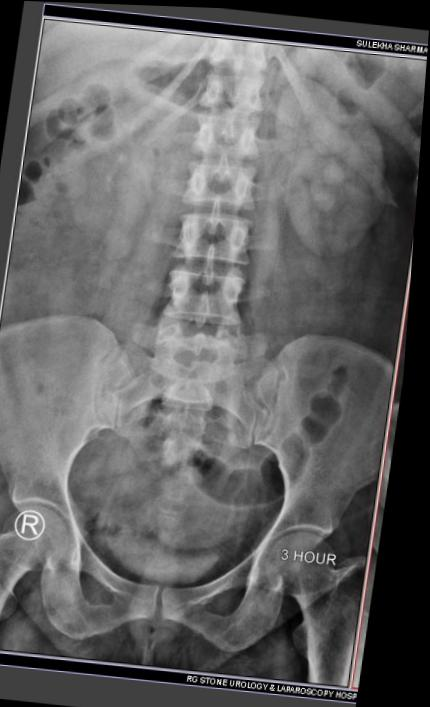left kidney: (246, 54, 408, 269)
vertebrae: (178, 99, 258, 157)
